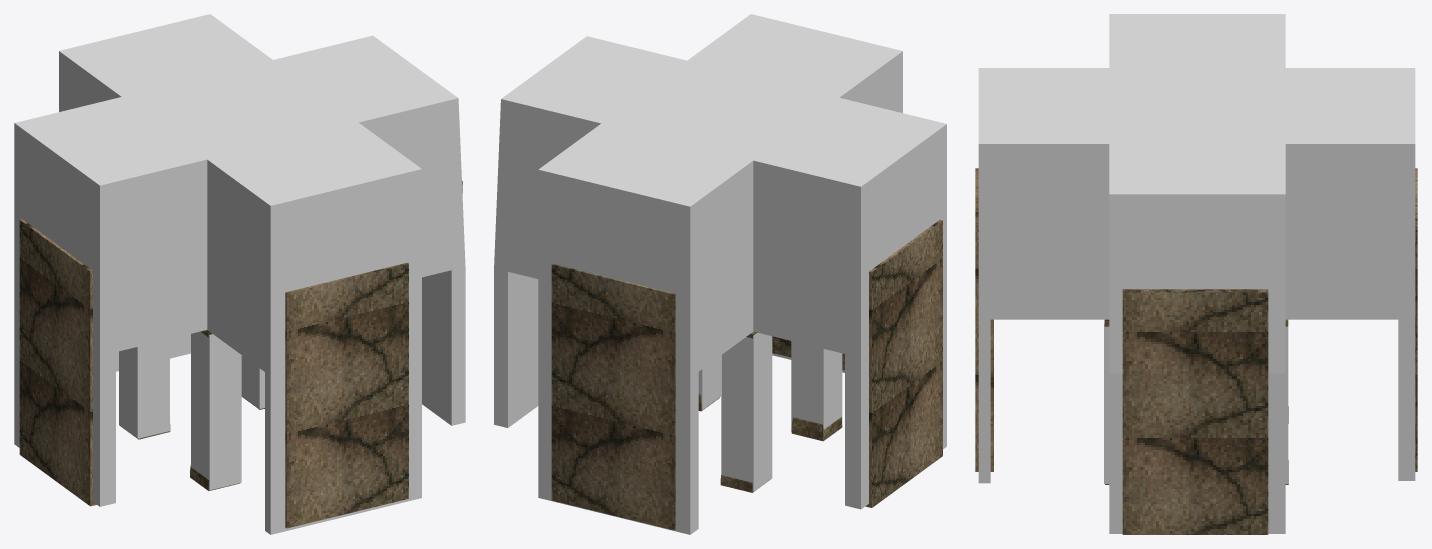
Rendered from Sentral.gltf.
The picture shows the model from 3 angles, left to right: view 1: azimuth 30°, elevation 25°; view 2: azimuth 150°, elevation 25°; view 3: azimuth 270°, elevation 25°; orthographic projection. The views are drawn at different scales.
Visible parts, largest first — view 1: COL01, Pedestal; view 2: COL01, Pedestal; view 3: COL01, Pedestal.
Boxes of the visible parts, x1,y1,x2,y2 form: COL01: (14,14,465,534); Pedestal: (19,181,462,528); COL01: (494,14,946,534); Pedestal: (551,219,942,530); COL01: (978,14,1415,533); Pedestal: (975,168,1417,534).
Size of the model in its own units: 47.52 by 40.27 by 47.44.
Materials: 1 (1 with a texture image).
